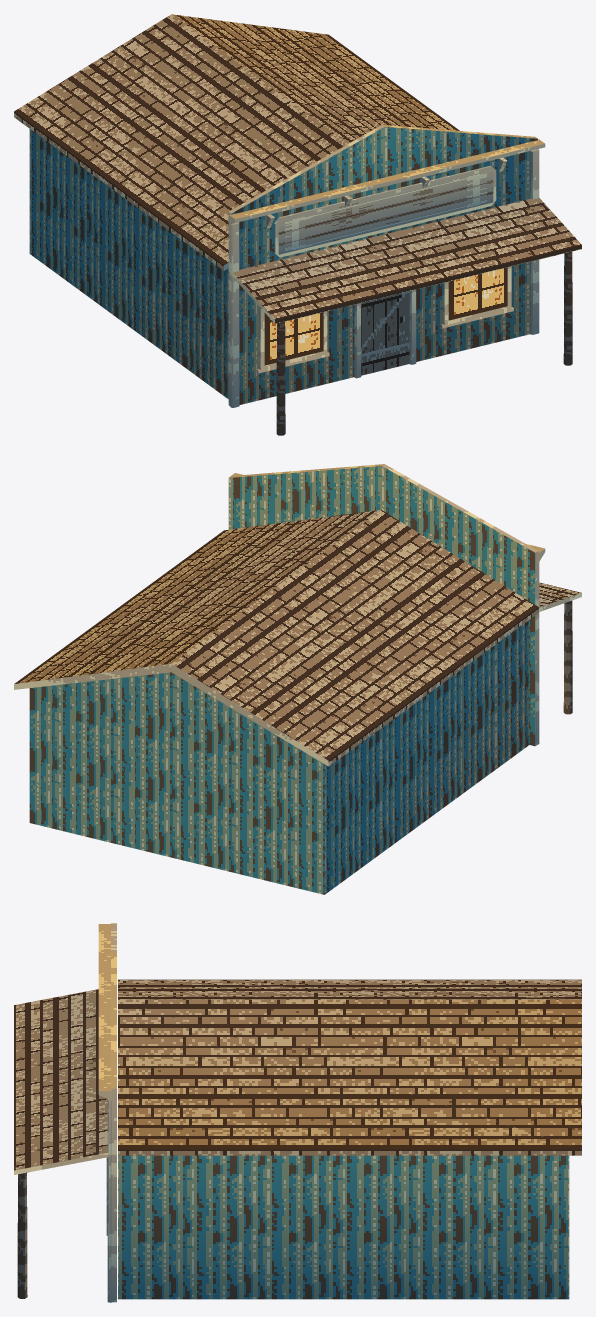
Rendered from wtown.store__battens.glb.
3 views of the same model, one above another, from view 1: azimuth 30°, elevation 25°; view 2: azimuth 150°, elevation 25°; view 3: azimuth 270°, elevation 25° (orthographic). The views are drawn at different scales.
Parts seen in each view (by area): view 1: kit_roof, kit_front, kit_body, kit_porch, kit_card_panes, kit_trim, kit_windows; view 2: kit_body, kit_roof, kit_front, kit_porch, kit_trim; view 3: kit_roof, kit_body, kit_porch, kit_trim, kit_front.
Part boxes in pixels (<box>): kit_roof: <box>14,14,459,270</box>; kit_front: <box>228,125,537,405</box>; kit_body: <box>29,129,228,399</box>; kit_porch: <box>232,197,581,435</box>; kit_card_panes: <box>264,169,507,375</box>; kit_trim: <box>229,139,545,407</box>; kit_windows: <box>256,266,513,373</box>; kit_body: <box>29,620,528,894</box>; kit_roof: <box>14,510,538,766</box>; kit_front: <box>228,464,537,746</box>; kit_porch: <box>539,582,581,714</box>; kit_trim: <box>230,473,545,744</box>; kit_roof: <box>118,979,581,1155</box>; kit_body: <box>118,1155,569,1299</box>; kit_porch: <box>14,989,108,1298</box>; kit_trim: <box>98,924,111,1302</box>; kit_front: <box>111,923,116,1302</box>.
Size of the model in its own units: 8 by 5.9 by 11.32.
7 materials, 7 textured.
